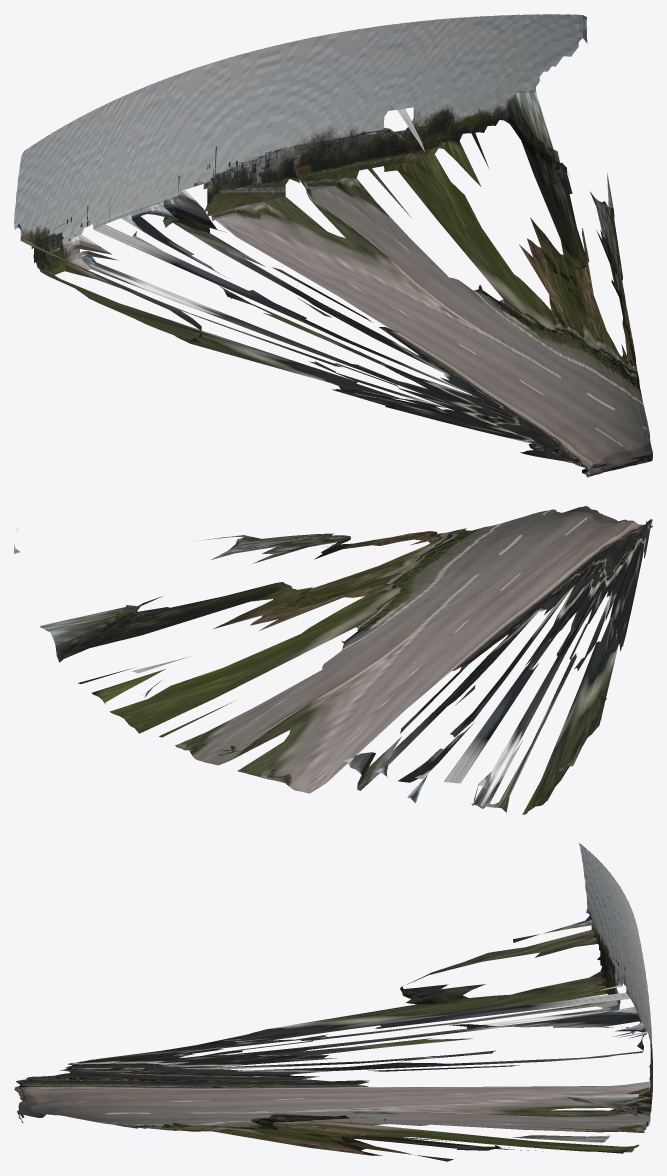
3 renders of one model, top to bottom at view 1: azimuth 30°, elevation 25°; view 2: azimuth 150°, elevation 25°; view 3: azimuth 270°, elevation 25°, orthographic. The views are drawn at different scales.
Visible parts, largest first — view 1: defaultobject; view 2: defaultobject; view 3: defaultobject.
Part boxes in pixels (bbox=[...]): defaultobject: bbox=[14, 14, 652, 477]; defaultobject: bbox=[14, 506, 652, 814]; defaultobject: bbox=[14, 843, 652, 1161].
Bounding box in the file's own units: 40.83 × 11.77 × 44.49.
Materials: 1 (1 with a texture image).
